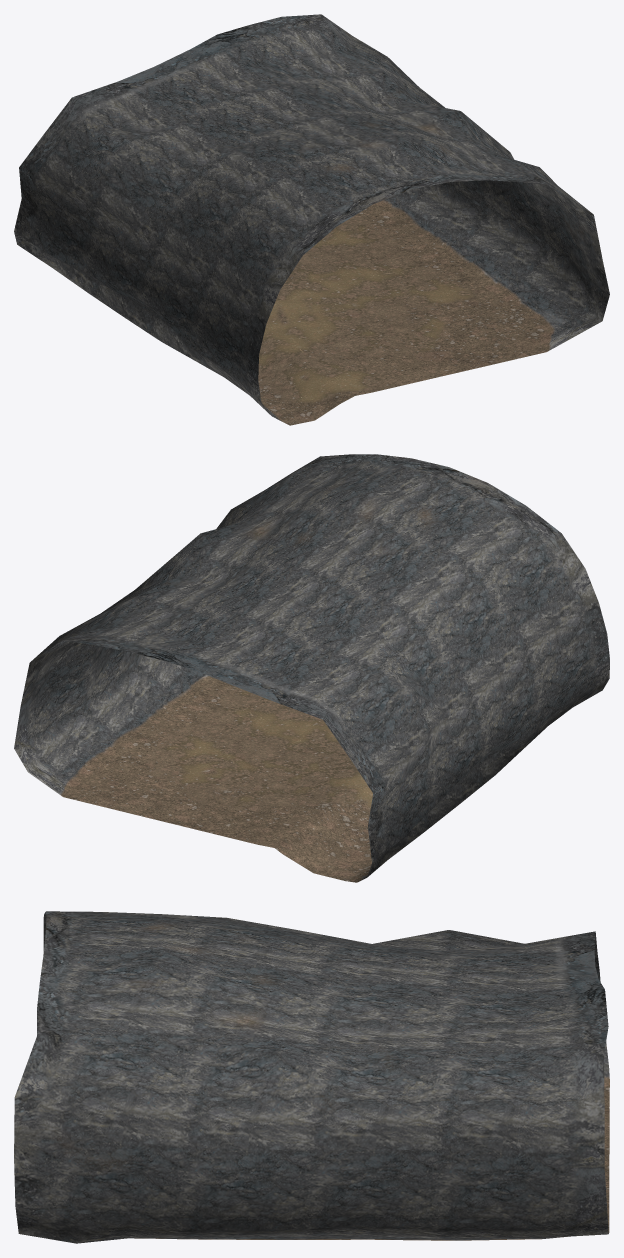
File: piece.obj
The picture shows the model from 3 angles, top to bottom: view 1: azimuth 30°, elevation 25°; view 2: azimuth 150°, elevation 25°; view 3: azimuth 270°, elevation 25°; orthographic projection. The views are drawn at different scales.
Parts seen in each view (by area): view 1: TunnelA2; view 2: TunnelA2; view 3: TunnelA2.
Part boxes in pixels (left/top/right/bottom): TunnelA2: left=14, top=14, right=609, bottom=425; TunnelA2: left=14, top=454, right=609, bottom=882; TunnelA2: left=14, top=911, right=609, bottom=1243.
Bounding box in the file's own units: 4.24 × 2.29 × 5.17.
1 material, 1 textured.
